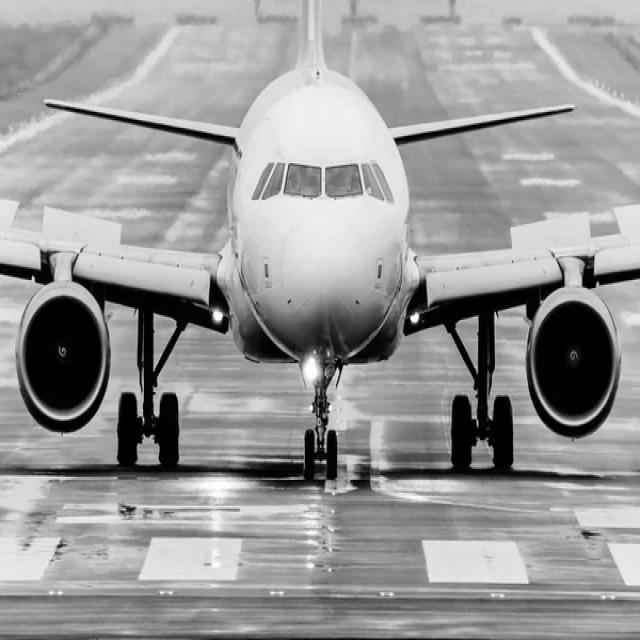Aircraft: (0, 24, 640, 480)
